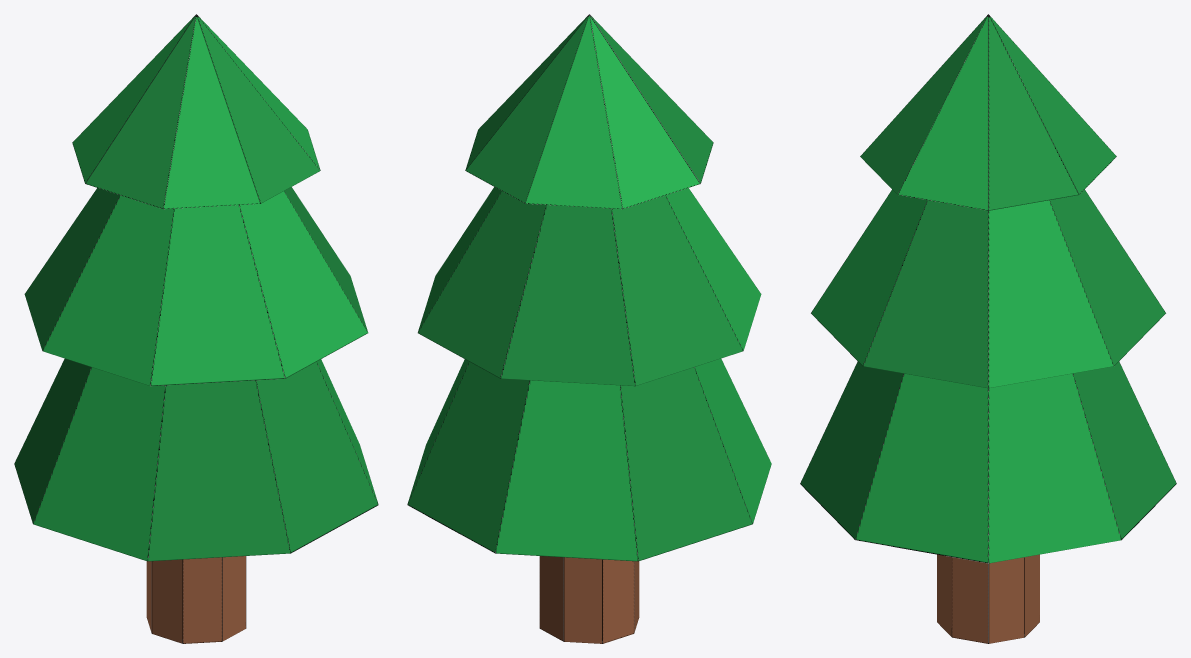
File: object1_tree.fbx
The picture shows the model from 3 angles, left to right: view 1: azimuth 30°, elevation 25°; view 2: azimuth 150°, elevation 25°; view 3: azimuth 270°, elevation 25°; orthographic projection.
Parts seen in each view (by area): view 1: Cylinder; view 2: Cylinder; view 3: Cylinder.
Boxes of the visible parts, <box> form: Cylinder: <box>14,14,378,643</box>; Cylinder: <box>407,14,771,643</box>; Cylinder: <box>800,14,1176,643</box>.
Bounding box in the file's own units: 352 × 627 × 352.
